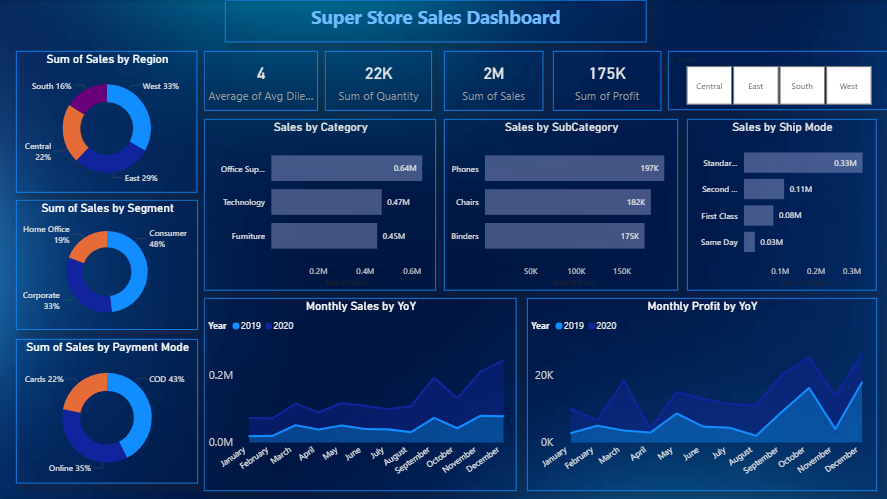

Layout of this report page (visuals, bound fields, positions):
{"tool":"powerbi","page":{"name":"Page 1","canvas":[1280,720],"ordinal":0},"visuals":[{"type":"clusteredBarChart","title":" Sales by Category","fields":{"Category":["SuperStore_Sales_Dataset.Category"],"Y":["Sum(SuperStore_Sales_Dataset.Sales)"]},"box":[294.3,171.4,334.3,247.1],"z":0},{"type":"clusteredBarChart","title":" Sales by SubCategory","fields":{"Y":["Sum(SuperStore_Sales_Dataset.Sales)"],"Category":["SuperStore_Sales_Dataset.Sub-Category"]},"box":[640,171.4,337.1,247.1],"z":1000},{"type":"clusteredBarChart","title":" Sales by Ship Mode","fields":{"Y":["Sum(SuperStore_Sales_Dataset.Sales)"],"Category":["SuperStore_Sales_Dataset.Ship Mode"]},"box":[988.6,171.4,272.9,247.1],"z":2000},{"type":"stackedAreaChart","title":"Monthly Sales by YoY","fields":{"Y":["Sum(SuperStore_Sales_Dataset.Sales)"],"Series":["SuperStore_Sales_Dataset.Order Date.Variation.Date Hierarchy.Year"],"Category":["SuperStore_Sales_Dataset.Order Date.Variation.Date Hierarchy.Month","SuperStore_Sales_Dataset.Order Date.Variation.Date Hierarchy.Day"]},"box":[294.2,429.2,450.4,277.5],"z":3000},{"type":"stackedAreaChart","title":"Monthly Profit by YoY","fields":{"Series":["SuperStore_Sales_Dataset.Order Date.Variation.Date Hierarchy.Year"],"Category":["SuperStore_Sales_Dataset.Order Date.Variation.Date Hierarchy.Month","SuperStore_Sales_Dataset.Order Date.Variation.Date Hierarchy.Day"],"Y":["Sum(SuperStore_Sales_Dataset.Profit)"]},"box":[758.3,429.2,503.5,277.5],"z":4000},{"type":"donutChart","fields":{"Category":["SuperStore_Sales_Dataset.Segment"],"Y":["Sum(SuperStore_Sales_Dataset.Sales)"]},"box":[22.8,288.6,262,187.3],"z":5000},{"type":"donutChart","fields":{"Y":["Sum(SuperStore_Sales_Dataset.Sales)"],"Category":["SuperStore_Sales_Dataset.Payment Mode"]},"box":[22.8,488.6,262,207.6],"z":6000},{"type":"slicer","fields":{"Values":["SuperStore_Sales_Dataset.Region"]},"box":[962,73.4,317.7,84.8],"z":7000},{"type":"textbox","box":[324.3,0,607.1,61.4],"z":8000},{"type":"card","fields":{"Values":["Sum(SuperStore_Sales_Dataset.Profit)"]},"box":[795.7,72.9,155.7,85.7],"z":9000},{"type":"card","fields":{"Values":["Sum(SuperStore_Sales_Dataset.Sales)"]},"box":[640,72.9,142.9,85.7],"z":10000},{"type":"card","fields":{"Values":["Sum(SuperStore_Sales_Dataset.Quantity)"]},"box":[468.6,72.9,154.3,85.7],"z":11000},{"type":"card","fields":{"Values":["Avg(SuperStore_Sales_Dataset.Avg Dilevery)"]},"box":[294.3,72.9,164.3,85.7],"z":12000},{"type":"donutChart","fields":{"Y":["Sum(SuperStore_Sales_Dataset.Sales)"],"Category":["SuperStore_Sales_Dataset.Region"]},"box":[22.9,72.9,261.4,204.3],"z":13000}]}

Visuals, with their boxes in screenshot pixels (x1, y1, x2, y2), scaled from the page's 1280x720 canvas onto the 887x499 screenshot:
" Sales by Category" clusteredBarChart: rect(204, 119, 436, 290)
" Sales by SubCategory" clusteredBarChart: rect(444, 119, 677, 290)
" Sales by Ship Mode" clusteredBarChart: rect(685, 119, 874, 290)
"Monthly Sales by YoY" stackedAreaChart: rect(204, 297, 516, 490)
"Monthly Profit by YoY" stackedAreaChart: rect(525, 297, 874, 490)
donutChart - SuperStore_Sales_Dataset.Segment x Sum(SuperStore_Sales_Dataset.Sales): rect(16, 200, 197, 330)
donutChart - Sum(SuperStore_Sales_Dataset.Sales) x SuperStore_Sales_Dataset.Payment Mode: rect(16, 339, 197, 483)
slicer - SuperStore_Sales_Dataset.Region: rect(667, 51, 886, 110)
textbox: rect(225, 0, 645, 43)
card - Sum(SuperStore_Sales_Dataset.Profit): rect(551, 51, 659, 110)
card - Sum(SuperStore_Sales_Dataset.Sales): rect(444, 51, 543, 110)
card - Sum(SuperStore_Sales_Dataset.Quantity): rect(325, 51, 432, 110)
card - Avg(SuperStore_Sales_Dataset.Avg Dilevery): rect(204, 51, 318, 110)
donutChart - Sum(SuperStore_Sales_Dataset.Sales) x SuperStore_Sales_Dataset.Region: rect(16, 51, 197, 192)
